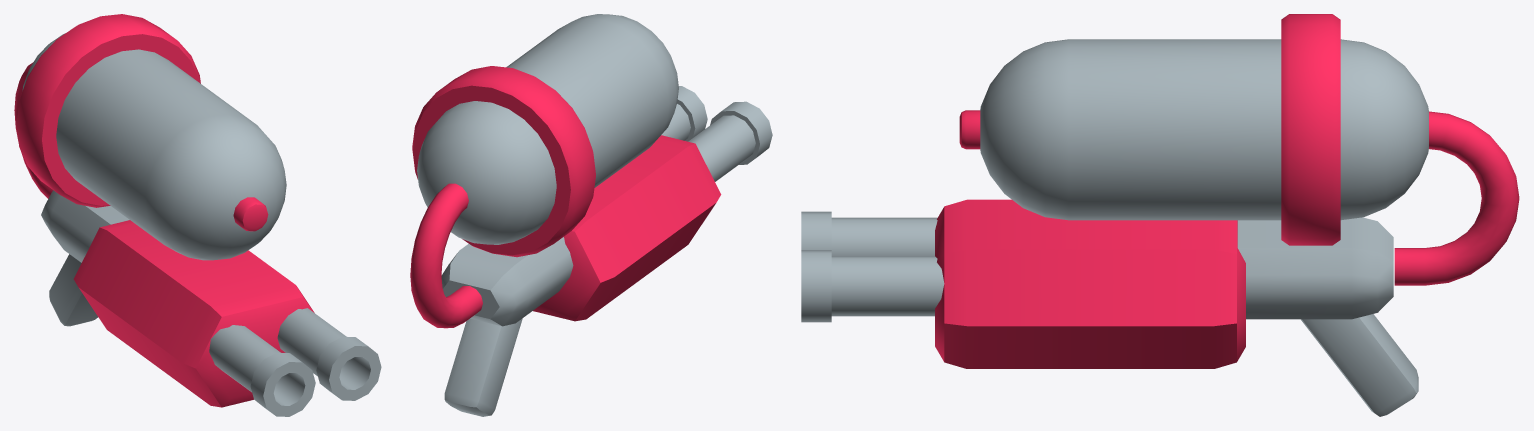
File: blaster_teamRed-col.glb
3 views of the same model, side by side, from view 1: azimuth 30°, elevation 25°; view 2: azimuth 150°, elevation 25°; view 3: azimuth 270°, elevation 25° (orthographic). The views are drawn at different scales.
Visible parts, largest first — view 1: blaster_teamRed-col; view 2: blaster_teamRed-col; view 3: blaster_teamRed-col.
Boxes of the visible parts, left/top/right/bottom form: blaster_teamRed-col: left=14, top=14, right=381, bottom=416; blaster_teamRed-col: left=410, top=14, right=772, bottom=416; blaster_teamRed-col: left=801, top=14, right=1519, bottom=416.
Bounding box in the file's own units: 0.4309 × 0.7874 × 1.33.
